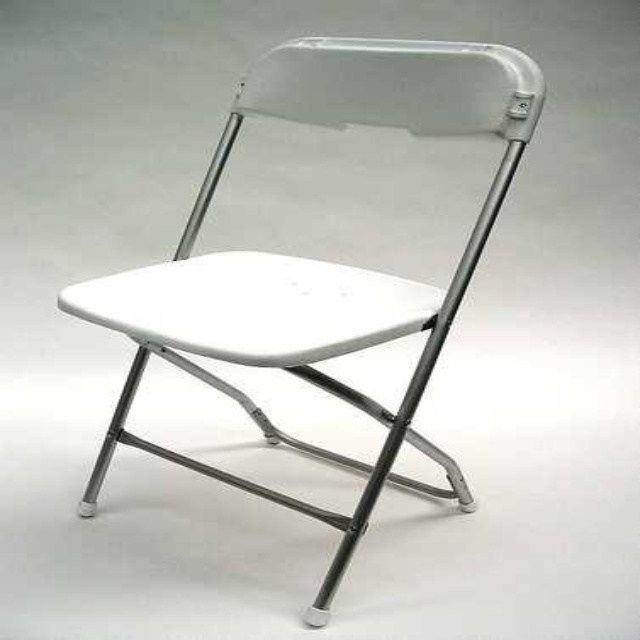obstacle: (58, 37, 543, 626)
